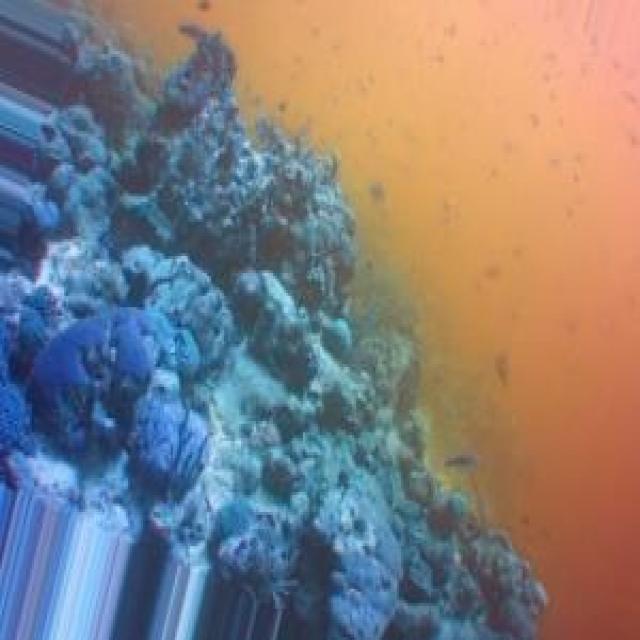Healthy: (1, 12, 545, 640), (148, 35, 355, 362), (376, 411, 547, 640), (35, 311, 206, 499), (123, 251, 236, 391), (206, 499, 298, 624), (39, 103, 120, 237), (280, 522, 366, 640), (1, 266, 71, 388)
